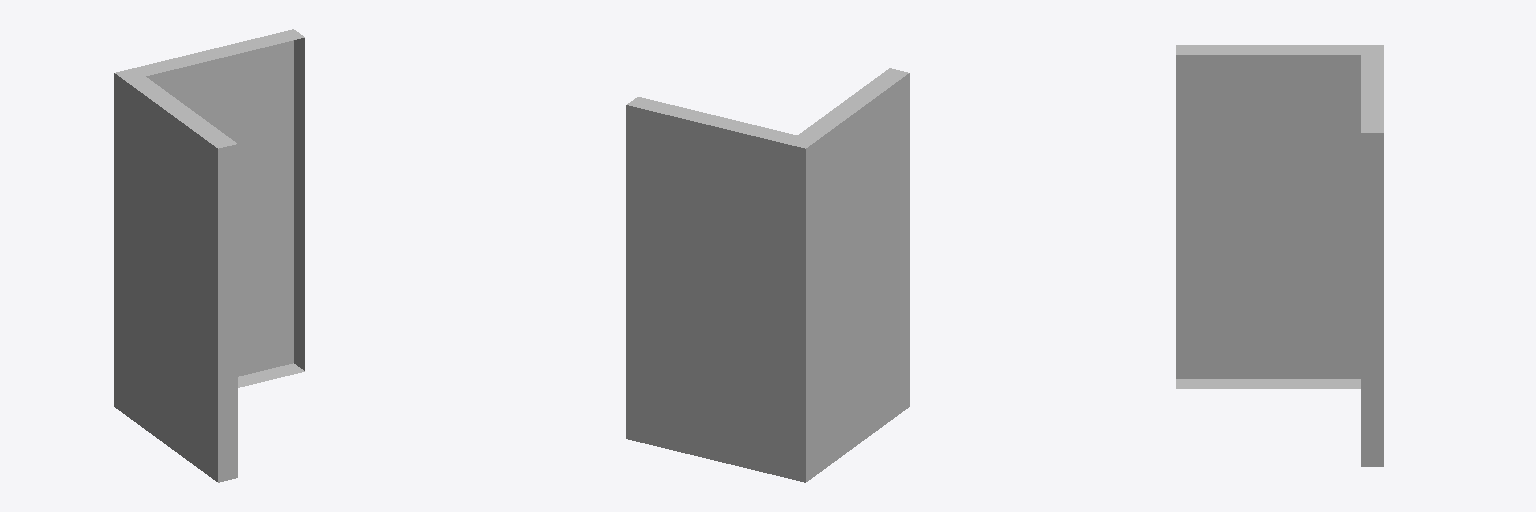
Rendered from wall_modular_plain_kitchen_corner_inner_A.obj.
The picture shows the model from 3 angles: view 1: azimuth 30°, elevation 25°; view 2: azimuth 150°, elevation 25°; view 3: azimuth 270°, elevation 25°; orthographic projection.
Visible parts, largest first — view 1: wall_modular_plain_kitchen_corner_inner_A; view 2: wall_modular_plain_kitchen_corner_inner_A; view 3: wall_modular_plain_kitchen_corner_inner_A.
Boxes of the visible parts, x1=… form: wall_modular_plain_kitchen_corner_inner_A: x1=114, y1=29, x2=304, y2=482; wall_modular_plain_kitchen_corner_inner_A: x1=626, y1=68, x2=909, y2=482; wall_modular_plain_kitchen_corner_inner_A: x1=1176, y1=45, x2=1383, y2=466.
Size of the model in its own units: 2.25 by 4 by 2.25.